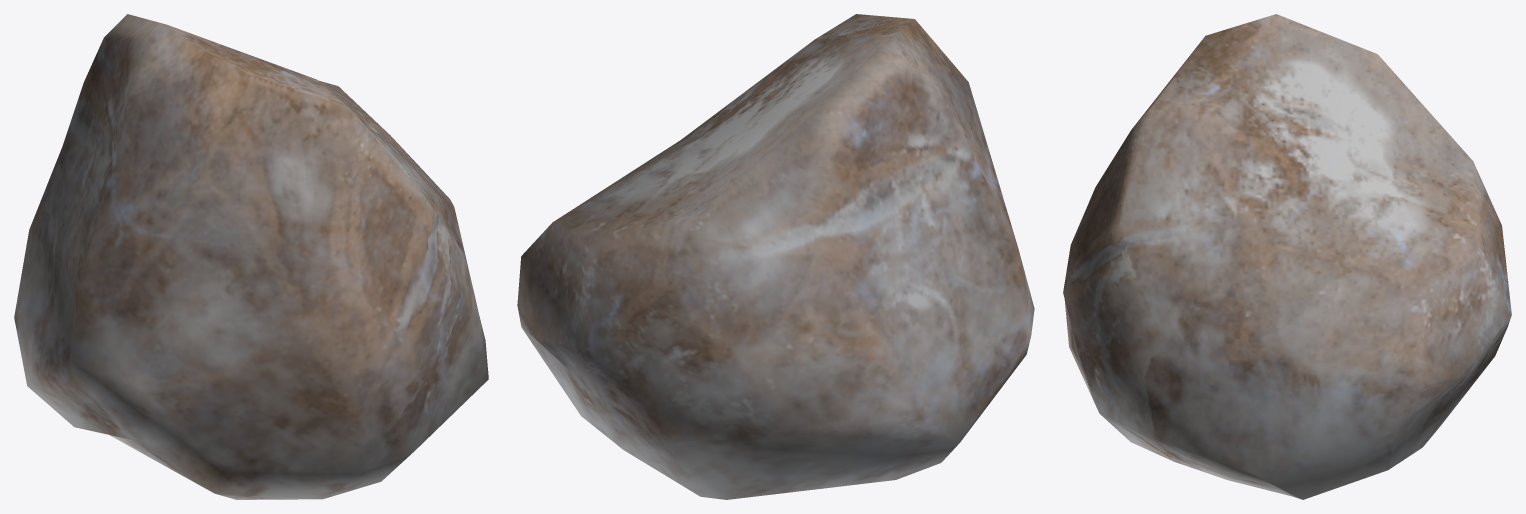
The model's file is EP1_rock02c.fbx.
3 views of the same model, side by side, from view 1: azimuth 30°, elevation 25°; view 2: azimuth 150°, elevation 25°; view 3: azimuth 270°, elevation 25° (orthographic). The views are drawn at different scales.
Parts seen in each view (by area): view 1: rock02c_low; view 2: rock02c_low; view 3: rock02c_low.
Part boxes in pixels (bbox=[...]): rock02c_low: bbox=[14, 14, 488, 499]; rock02c_low: bbox=[517, 14, 1034, 499]; rock02c_low: bbox=[1063, 14, 1511, 499].
Bounding box in the file's own units: 1.08 × 1.07 × 1.13.
